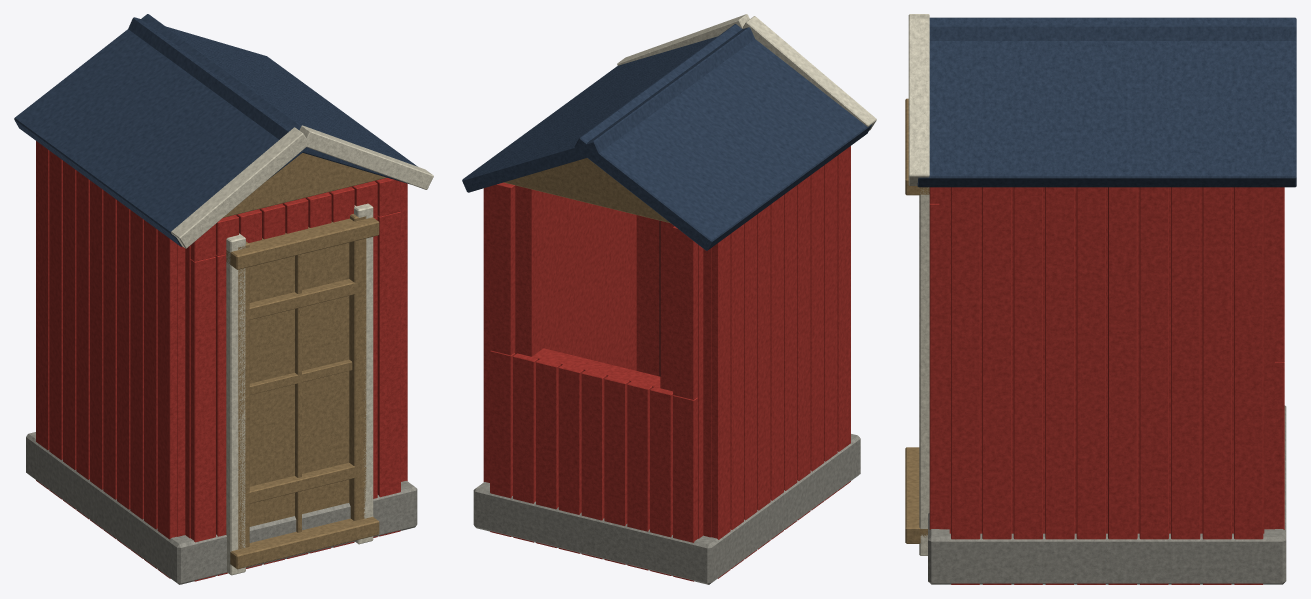
Rendered from OUTHOUS2_lod1.glb.
3 renders of one model, left to right at view 1: azimuth 30°, elevation 25°; view 2: azimuth 150°, elevation 25°; view 3: azimuth 270°, elevation 25°, orthographic. The views are drawn at different scales.
Visible parts, largest first — view 1: OUTHOUS2_LOD1; view 2: OUTHOUS2_LOD1; view 3: OUTHOUS2_LOD1.
Boxes of the visible parts, <box> form: OUTHOUS2_LOD1: <box>14,14,433,584</box>; OUTHOUS2_LOD1: <box>462,14,876,584</box>; OUTHOUS2_LOD1: <box>905,14,1296,584</box>.
Size of the model in its own units: 1.96 by 3.16 by 2.24.
9 materials, 7 textured.
